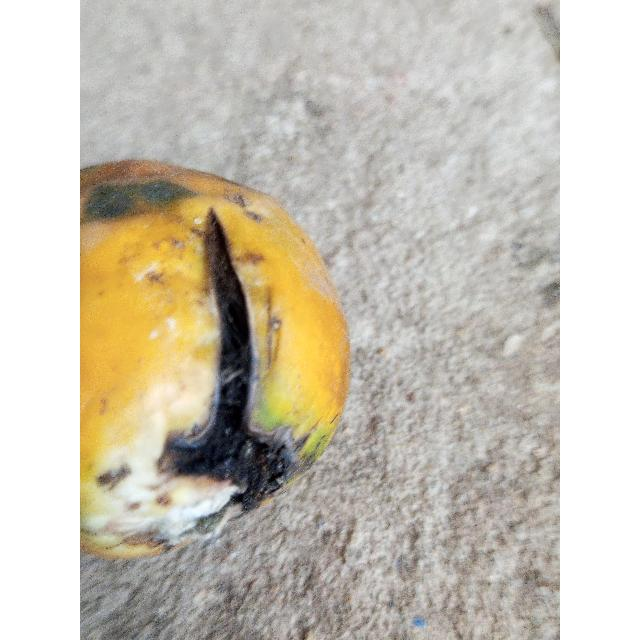damaged: (80, 161, 349, 558)
